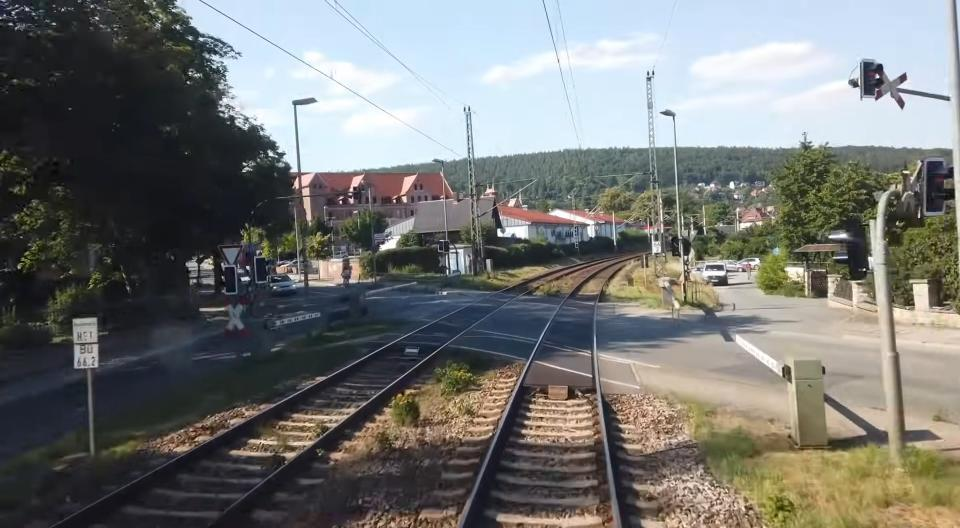Plant: (434, 360, 480, 396), (601, 264, 633, 301), (390, 392, 420, 425), (369, 424, 398, 458), (534, 280, 566, 296), (310, 422, 332, 438)
